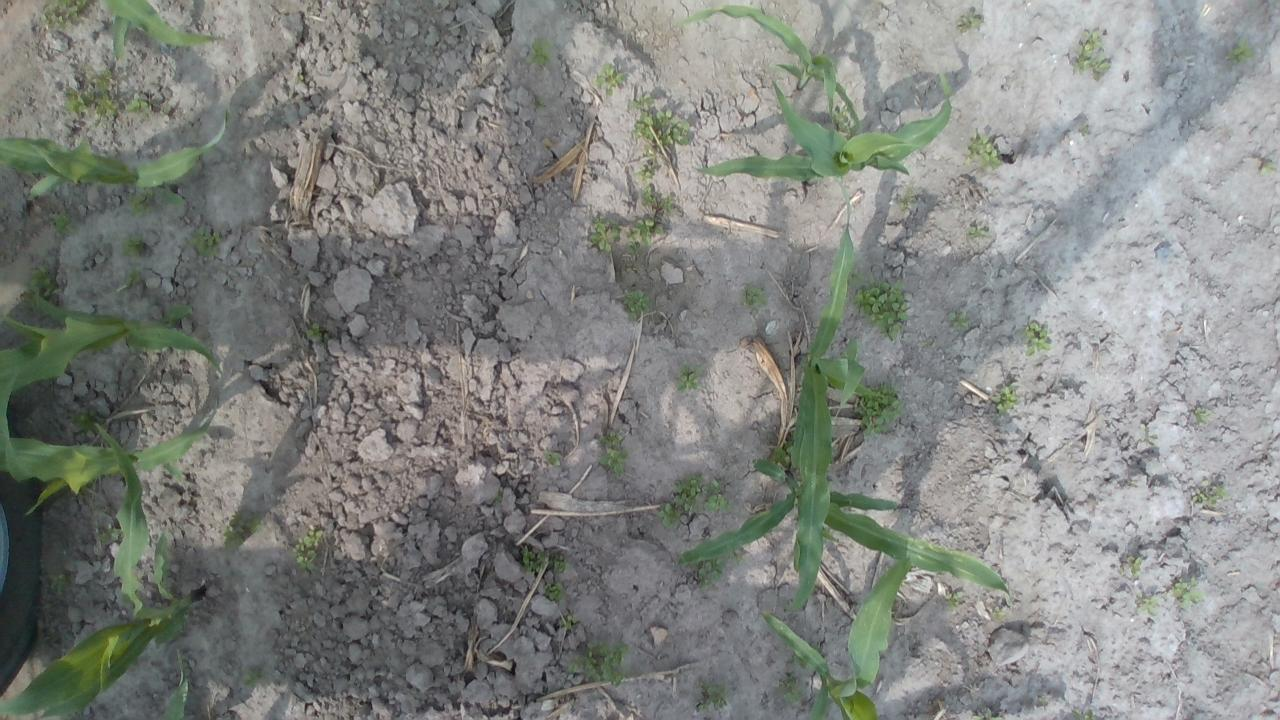Maize: (3, 420, 208, 717), (672, 458, 1016, 608), (672, 4, 957, 182), (0, 290, 226, 468), (784, 185, 861, 612), (761, 550, 922, 719), (0, 417, 214, 520), (0, 108, 234, 198), (92, 4, 220, 56)
Weeds: (654, 472, 733, 533), (59, 76, 152, 126), (620, 95, 692, 151), (564, 641, 634, 688), (518, 541, 570, 604), (574, 210, 660, 248), (856, 278, 907, 336), (1064, 26, 1112, 80), (855, 381, 902, 435), (218, 510, 277, 552), (636, 155, 671, 211), (38, 0, 100, 31), (294, 526, 329, 570), (184, 223, 222, 258), (600, 432, 630, 474), (966, 128, 999, 166), (1169, 577, 1204, 610), (1021, 321, 1056, 353), (690, 683, 731, 710), (1192, 480, 1230, 509), (42, 555, 70, 592), (694, 556, 727, 587), (520, 38, 554, 66), (237, 662, 269, 690), (592, 62, 624, 90), (959, 3, 986, 36), (740, 280, 768, 311), (780, 669, 801, 707), (121, 260, 145, 293), (993, 386, 1020, 415), (620, 290, 648, 316), (1231, 41, 1260, 63), (1136, 594, 1162, 618), (1120, 554, 1146, 578), (676, 364, 700, 389), (50, 212, 74, 236), (305, 317, 323, 344), (560, 613, 580, 632), (1258, 156, 1277, 176), (969, 220, 990, 238), (128, 238, 146, 256), (1192, 406, 1212, 422), (949, 310, 968, 326)
